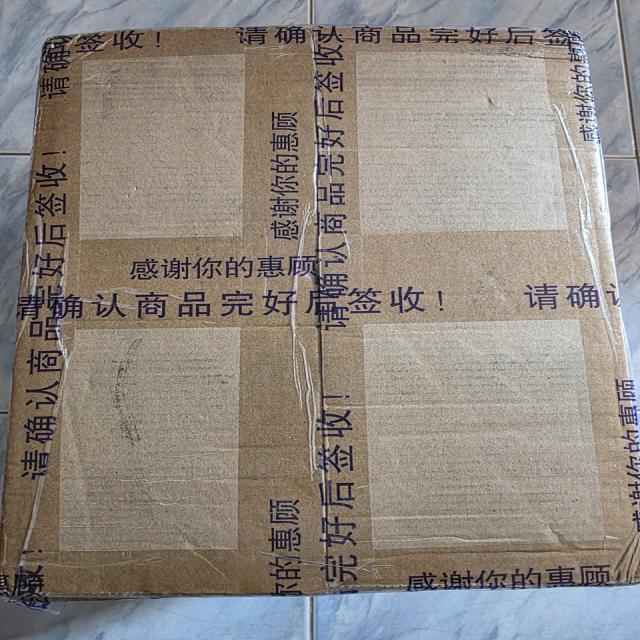carton_box: (5, 8, 640, 608)
package_damage: (298, 228, 338, 306)
